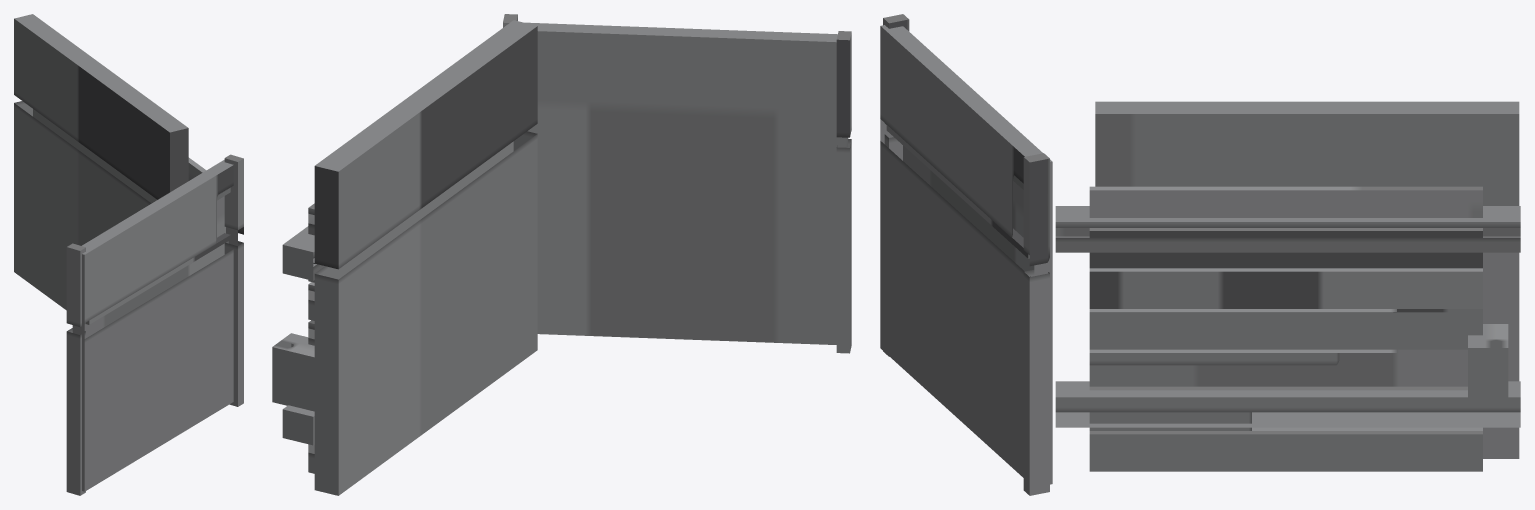
The picture shows the model from 3 angles, left to right: view 1: azimuth 30°, elevation 25°; view 2: azimuth 150°, elevation 25°; view 3: azimuth 270°, elevation 25°; orthographic projection. The views are drawn at different scales.
Bounding box in the file's own units: 0.8925 × 0.9859 × 1.58.
